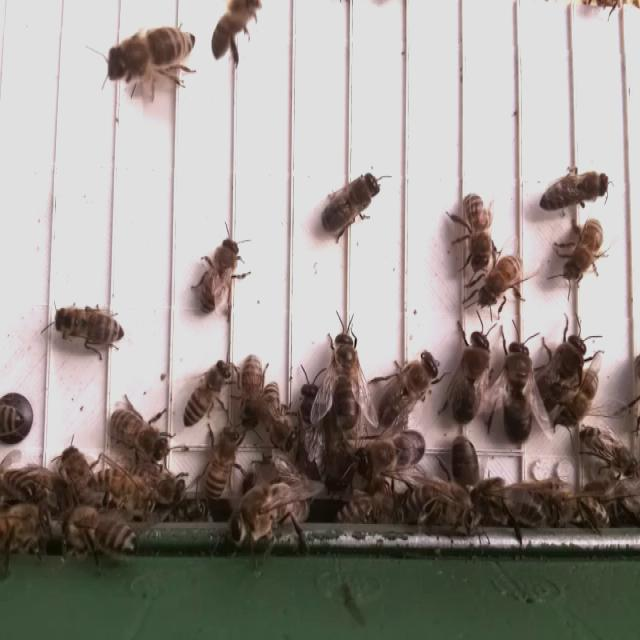Drone: (374, 349, 442, 432), (531, 330, 588, 418), (447, 326, 495, 430), (319, 166, 382, 237), (499, 334, 536, 447), (353, 426, 430, 480), (327, 325, 362, 438), (294, 371, 326, 486)
Worker: (109, 22, 189, 82), (106, 406, 173, 467), (182, 355, 233, 433), (50, 302, 129, 351), (576, 424, 640, 483), (538, 166, 614, 215), (199, 231, 242, 317), (199, 425, 242, 504), (560, 214, 607, 283), (479, 247, 528, 308), (459, 190, 494, 275), (261, 379, 297, 456), (236, 347, 267, 427)
